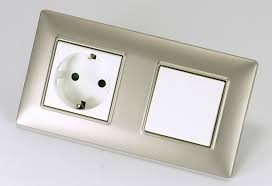raccoon: (52, 52, 112, 111)
